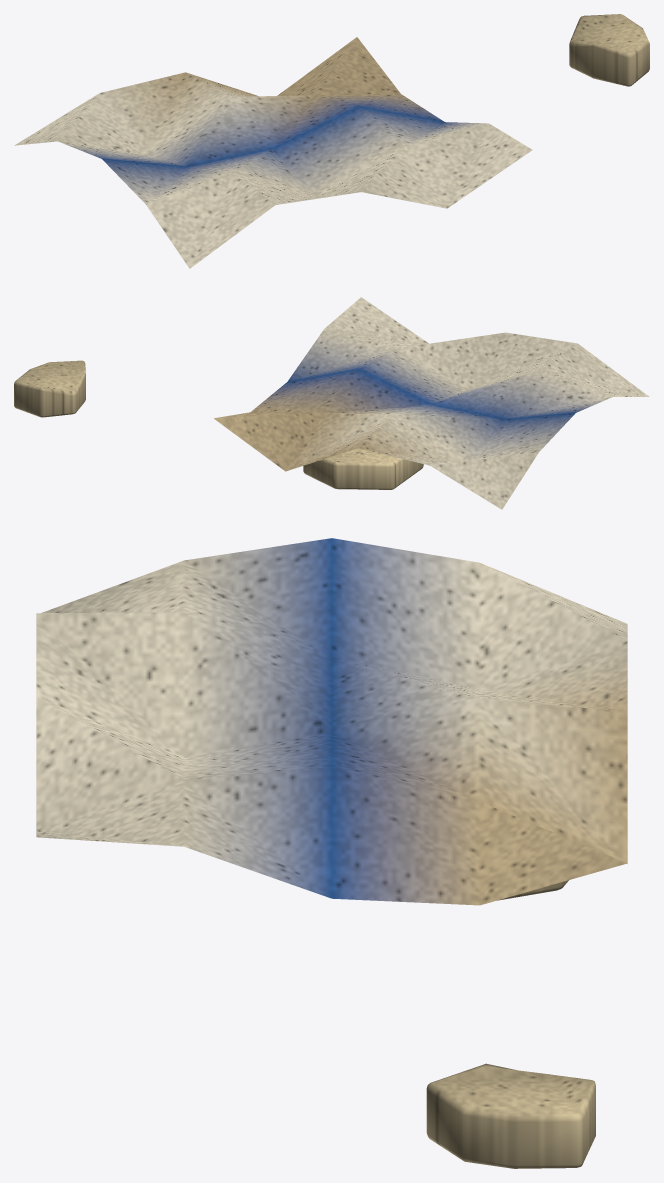
The model's file is food-15-residue.glb.
3 views of the same model, one above another, from view 1: azimuth 30°, elevation 25°; view 2: azimuth 150°, elevation 25°; view 3: azimuth 270°, elevation 25° (orthographic). The views are drawn at different scales.
Parts seen in each view (by area): view 1: Food; view 2: Food; view 3: Food.
Part boxes in pixels (x1,y1,x2,y2): Food: (14,14,649,268); Food: (14,297,649,509); Food: (36,538,627,1168).
Size of the model in its own units: 0.5384 by 0.0738 by 0.275.
Materials: 1 (1 with a texture image).
